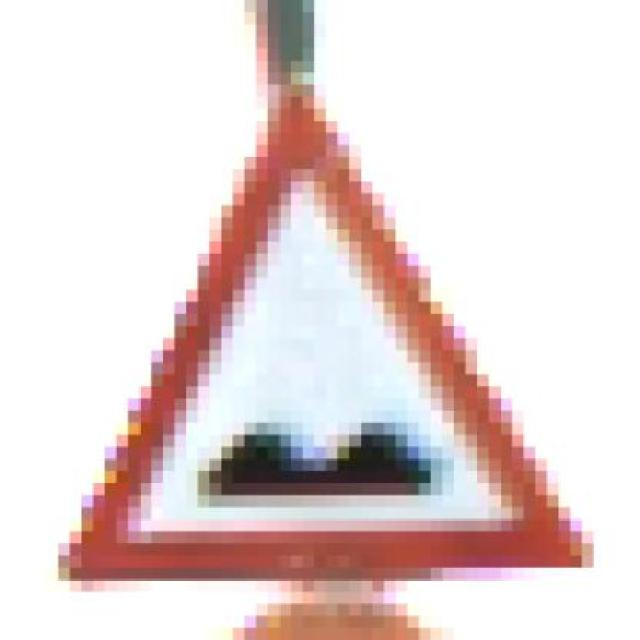Uneven Road: (58, 60, 594, 592)
